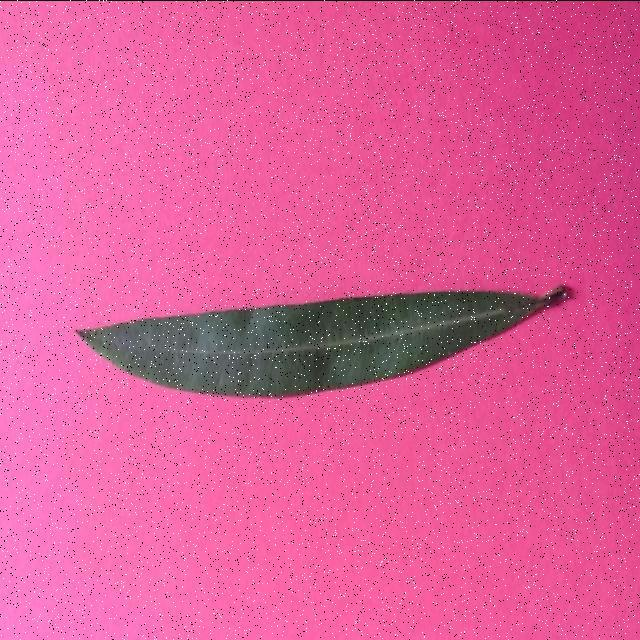foliage: (70, 276, 580, 398)
